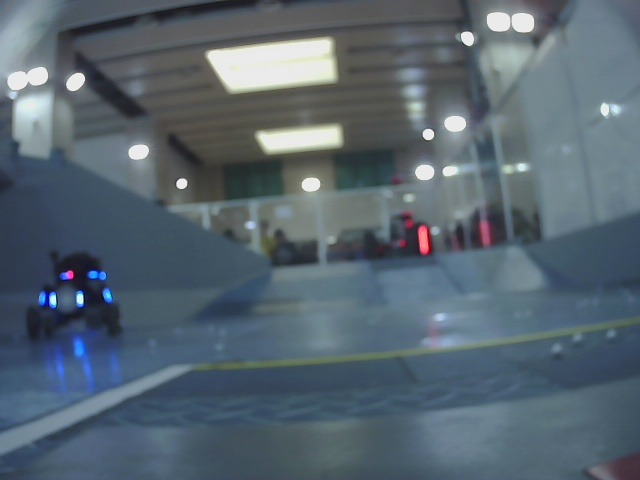lamp: (50, 293, 57, 307), (76, 293, 84, 305)
pair: (49, 291, 84, 309)
